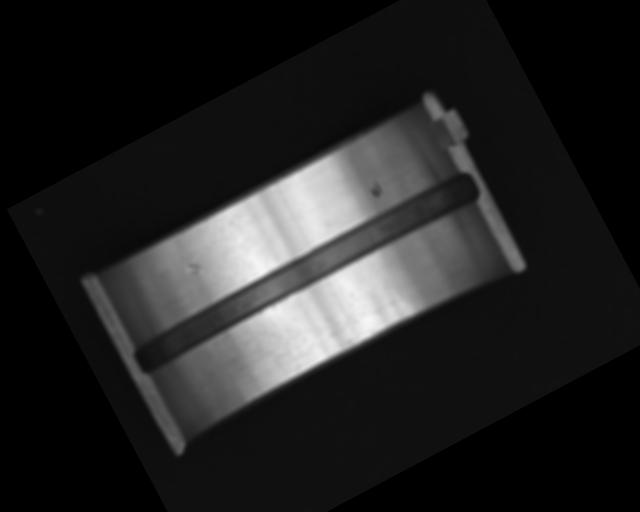blot: (367, 179, 385, 200)
bruise: (183, 256, 205, 278)
gap: (127, 165, 482, 377)
